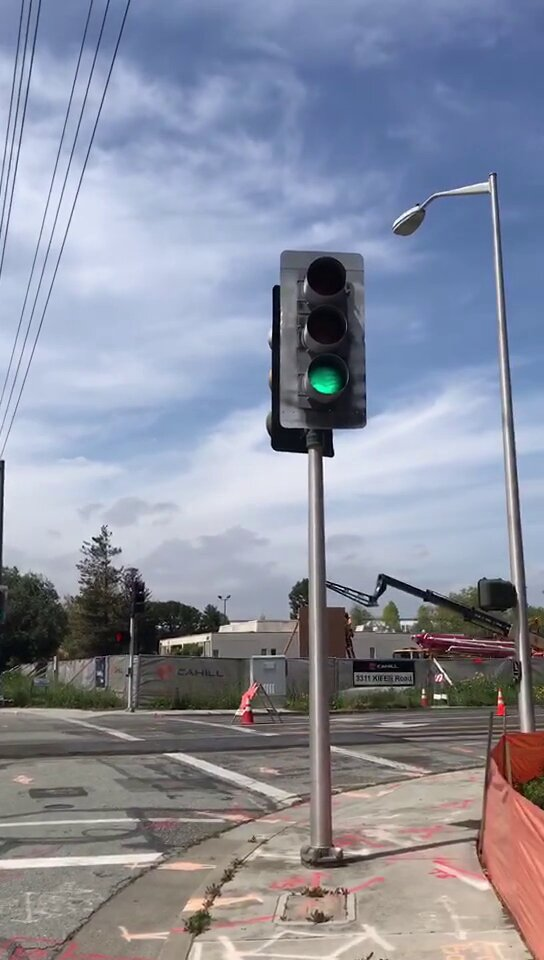green_light: (282, 256, 361, 430)
